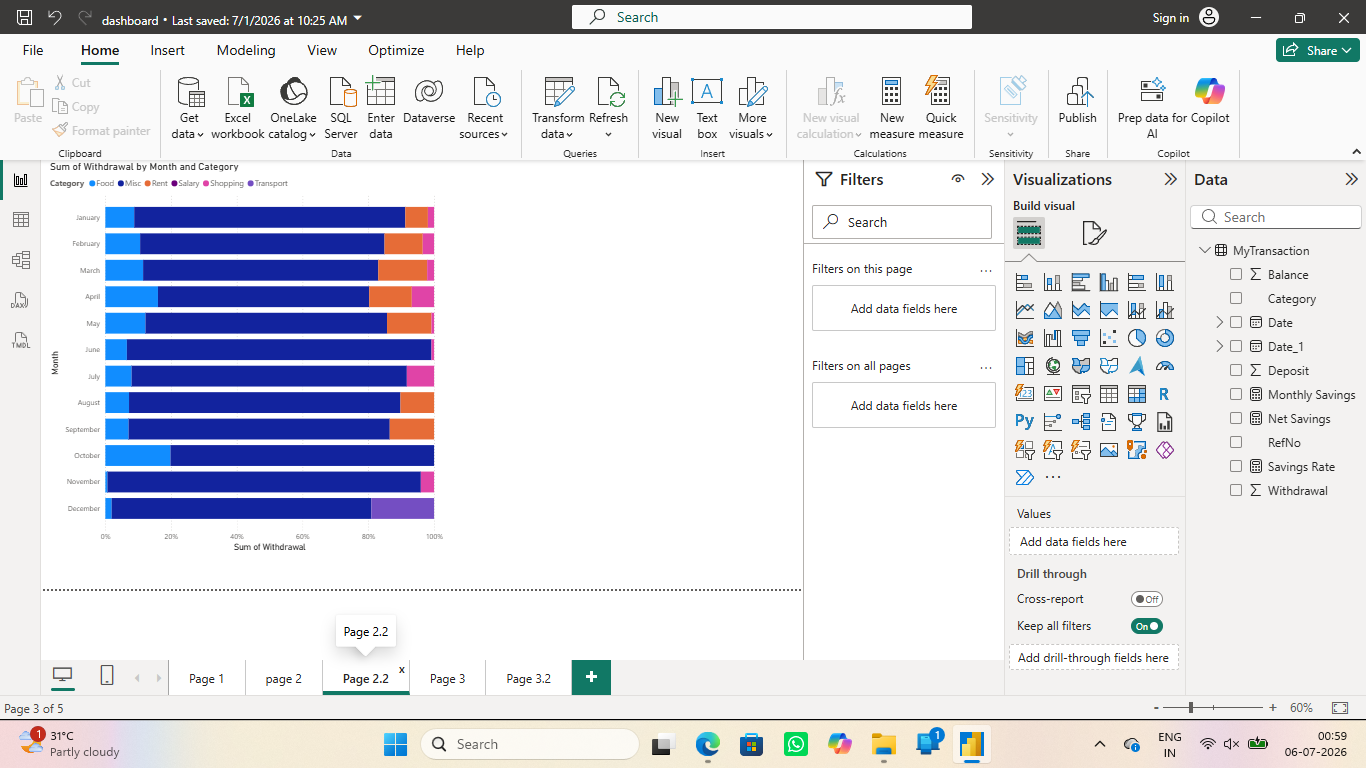

The dashboard page shown, as its layout file describes it:
{"tool":"powerbi","page":{"name":"Page 2.2","canvas":[1280,720],"ordinal":2},"visuals":[{"type":"hundredPercentStackedBarChart","fields":{"Series":["MyTransaction.Category"],"Category":["MyTransaction.Date.Variation.Date Hierarchy.Month"],"Y":["Sum(MyTransaction.Withdrawal)"]},"box":[10.1,0,670.2,663.5],"z":0}]}

Visuals, with their boxes on the page's 1280x720 design canvas (x1, y1, x2, y2). These are canvas units, not pixel positions in the 1366x768 screenshot, which may show the page scaled, cropped or inside an application window:
hundredPercentStackedBarChart - MyTransaction.Category x MyTransaction.Date.Variation.Date Hierarchy.Month: region(10, 0, 680, 664)
